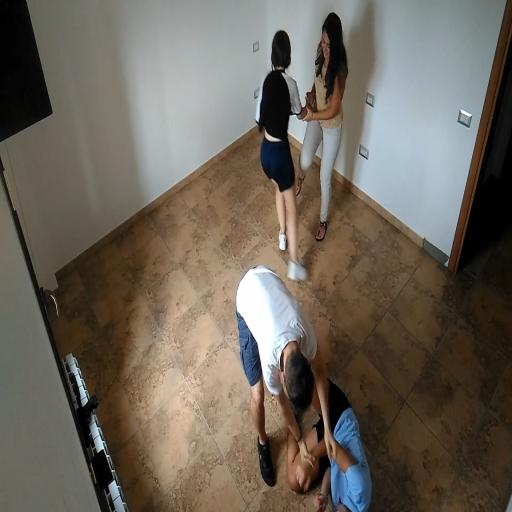violencia: (211, 257, 390, 512), (243, 6, 366, 288)
